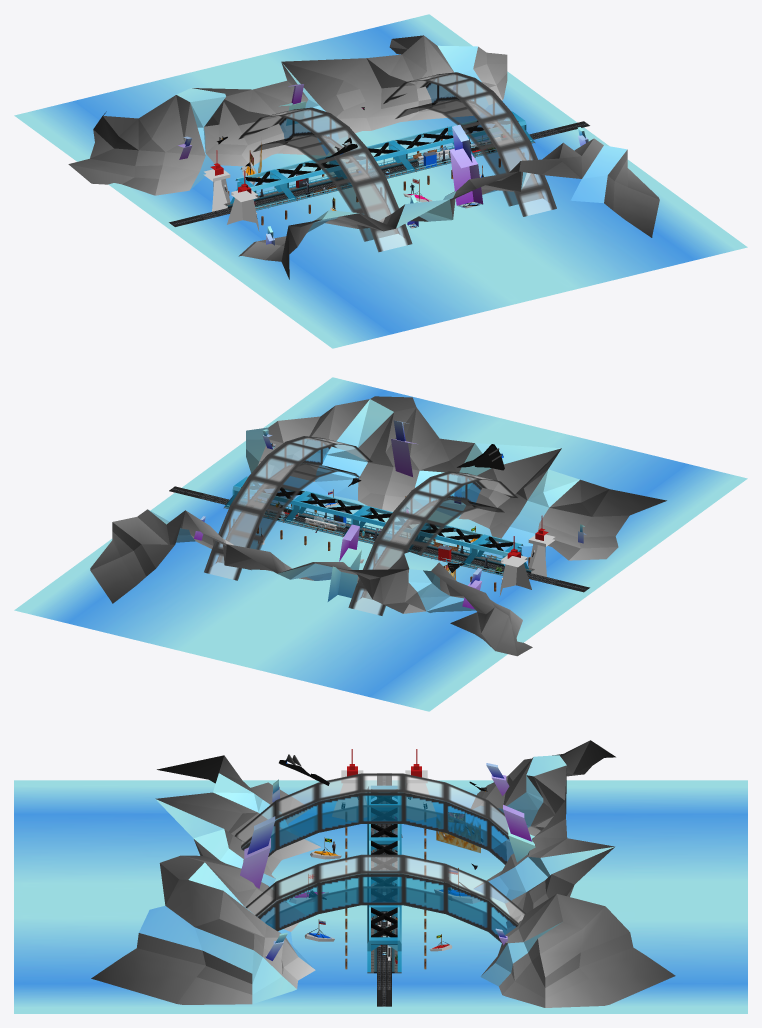
Rendered from subwaysurferstest76.glb.
3 renders of one model, top to bottom at view 1: azimuth 30°, elevation 25°; view 2: azimuth 150°, elevation 25°; view 3: azimuth 270°, elevation 25°, orthographic. The views are drawn at different scales.
Parts seen in each view (by area): view 1: Water, mountain.001, mountain, connector.001, connector, skyscraper, lighttower, Overpass.004, Overpass.003, Overpass.001, Overpass.002, lighttower.001; view 2: Water, mountain, mountain.001, connector, connector.001, skyscraper.002, Overpass.001, lighttower.001, Overpass.004, Overpass.003, skyscraper, lighttower (+3 smaller); view 3: Water, mountain, mountain.001, connector, connector.001, skyscraper, Overpass, lighttower.001, skyscraper.002, lighttower, Overpass.003, Overpass.002 (+3 smaller).
Part boxes in pixels (left/top/right/bottom): Water: left=14, top=14, right=747, bottom=348; mountain.001: left=68, top=35, right=507, bottom=195; mountain: left=238, top=138, right=659, bottom=279; connector.001: left=238, top=107, right=412, bottom=252; connector: left=383, top=72, right=556, bottom=216; skyscraper: left=449, top=124, right=483, bottom=208; lighttower: left=227, top=171, right=259, bottom=231; Overpass.004: left=230, top=169, right=297, bottom=203; Overpass.003: left=275, top=155, right=351, bottom=185; Overpass.001: left=394, top=126, right=475, bottom=156; Overpass.002: left=344, top=140, right=416, bottom=171; lighttower.001: left=203, top=150, right=230, bottom=211; Water: left=14, top=377, right=747, bottom=711; mountain: left=246, top=396, right=666, bottom=560; mountain.001: left=90, top=509, right=532, bottom=656; connector: left=204, top=436, right=372, bottom=580; connector.001: left=348, top=471, right=517, bottom=615; skyscraper.002: left=327, top=524, right=361, bottom=601; Overpass.001: left=283, top=491, right=364, bottom=522; lighttower.001: left=499, top=536, right=531, bottom=596; Overpass.004: left=463, top=534, right=528, bottom=569; Overpass.003: left=408, top=523, right=483, bottom=551; skyscraper: left=391, top=420, right=417, bottom=476; lighttower: left=528, top=515, right=554, bottom=576; Water: left=14, top=780, right=747, bottom=1013; mountain: left=91, top=755, right=321, bottom=1004; mountain.001: left=470, top=740, right=675, bottom=1007; connector: left=245, top=854, right=525, bottom=942; connector.001: left=235, top=773, right=513, bottom=864; skyscraper: left=240, top=816, right=275, bottom=888; Overpass: left=367, top=907, right=401, bottom=972; lighttower.001: left=405, top=749, right=436, bottom=820; skyscraper.002: left=503, top=805, right=535, bottom=862; lighttower: left=332, top=749, right=366, bottom=820; Overpass.003: left=367, top=807, right=401, bottom=850; Overpass.002: left=367, top=840, right=401, bottom=884.
Size of the model in its own units: 584 by 174 by 744.
5 materials, 5 textured.
